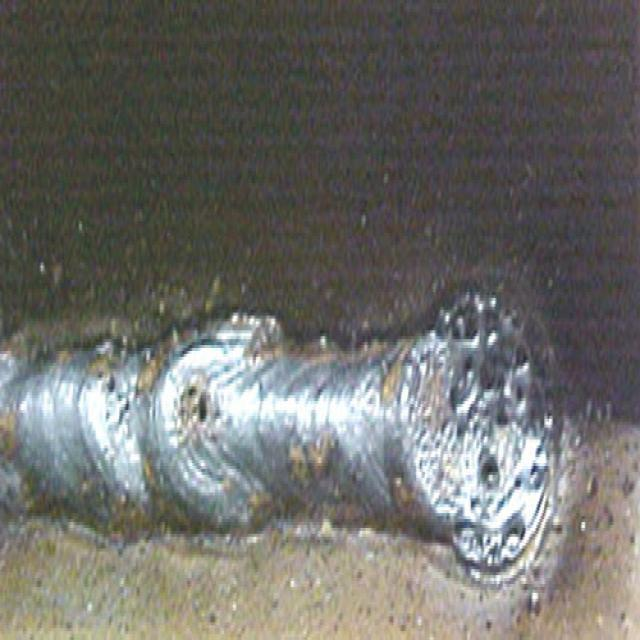Porosity: (435, 296, 533, 493), (100, 356, 139, 432), (185, 378, 213, 437)
